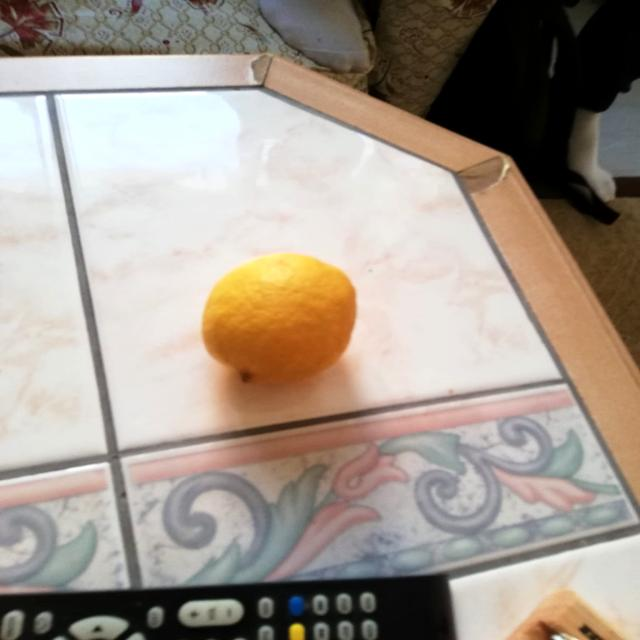lemon: (192, 245, 366, 393)
